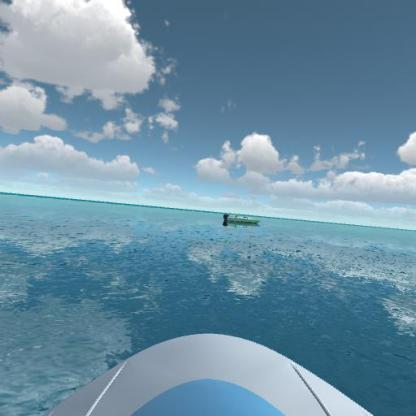usv0: (220, 208, 263, 232)
